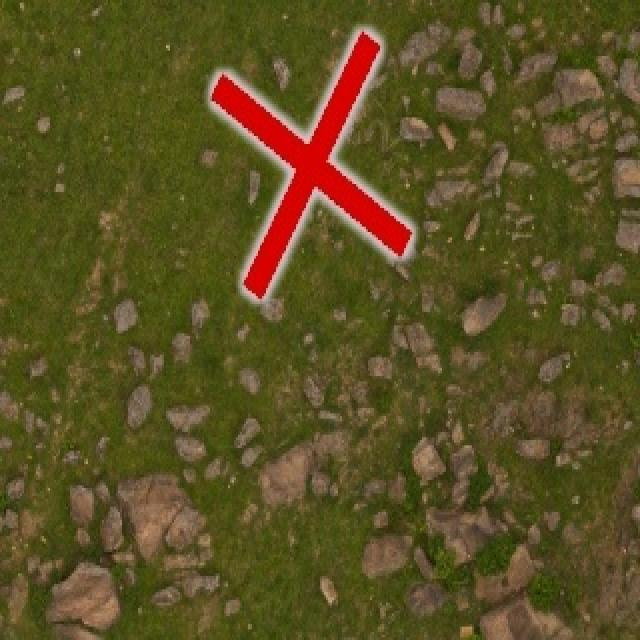x_marker: (211, 31, 411, 297)
